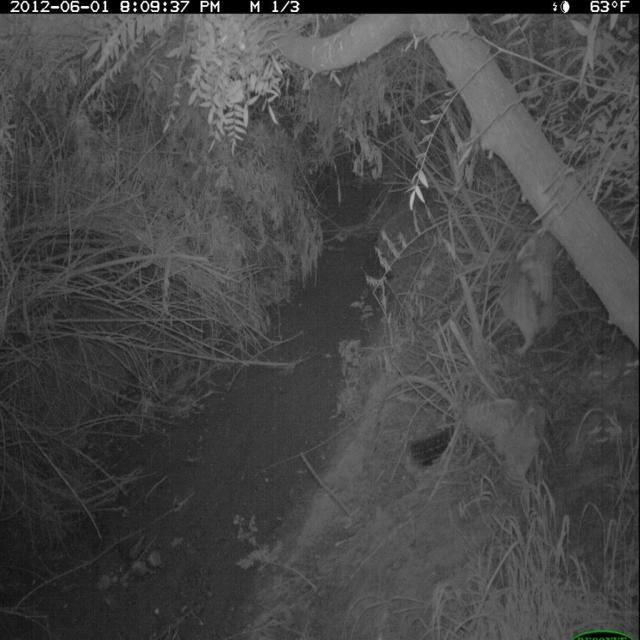bird: (487, 223, 573, 363), (458, 378, 554, 497)
